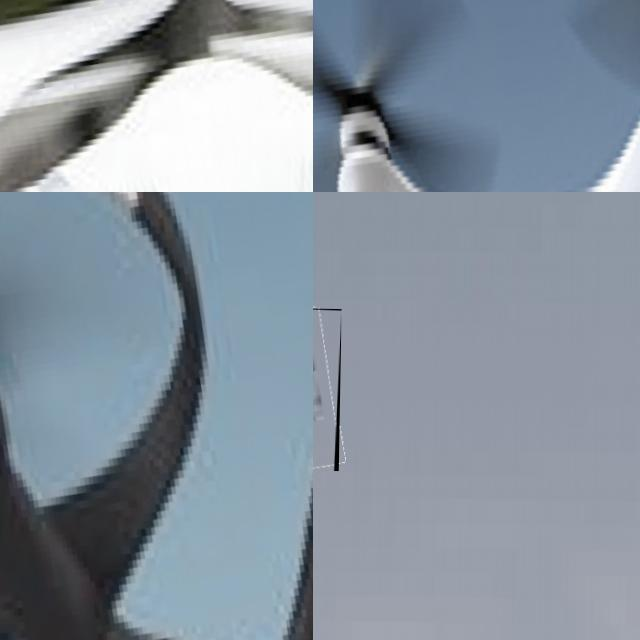drone: (0, 192, 313, 640), (313, 0, 640, 192), (0, 0, 313, 192), (313, 307, 341, 470)
